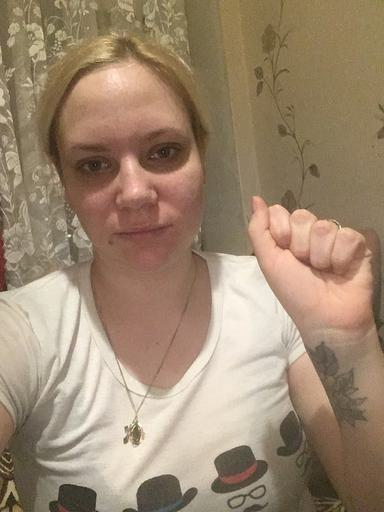fist: (246, 192, 377, 344)
